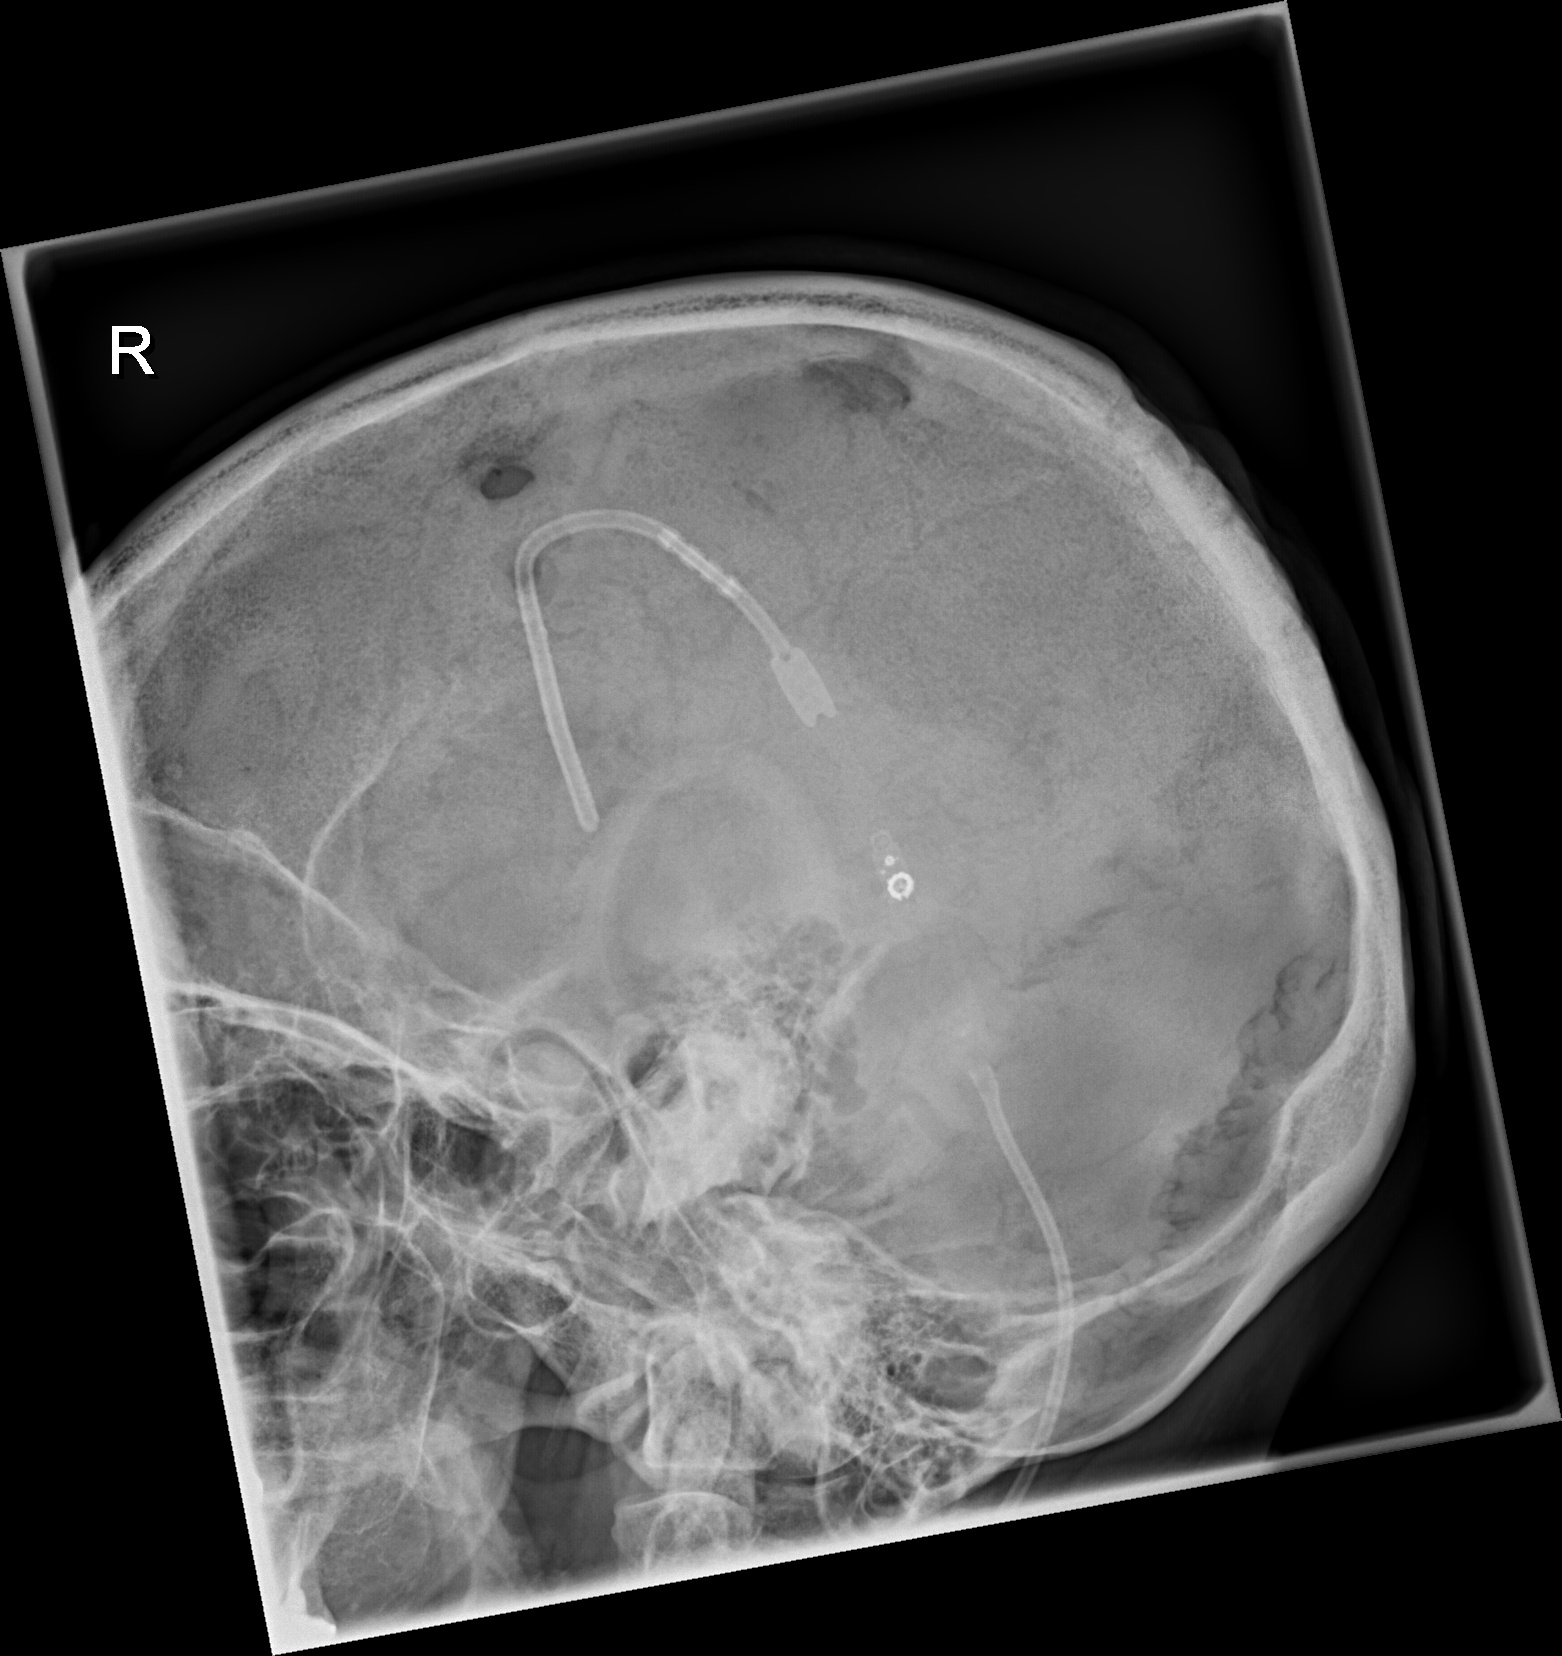Codman Hakim: (871, 843, 922, 912)
